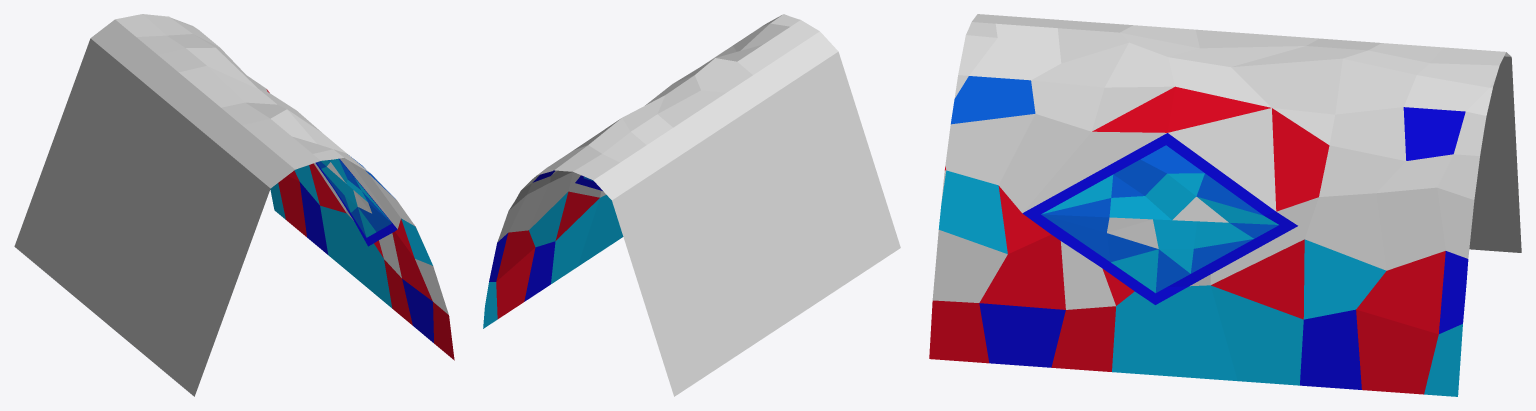
The model's file is Forma3.fbx.
3 views of the same model, side by side, from view 1: azimuth 30°, elevation 25°; view 2: azimuth 150°, elevation 25°; view 3: azimuth 270°, elevation 25° (orthographic). The views are drawn at different scales.
Parts seen in each view (by area): view 1: Sphere.003; view 2: Sphere.003; view 3: Sphere.003.
Part boxes in pixels (left/top/right/bottom): Sphere.003: left=14, top=14, right=454, bottom=396; Sphere.003: left=483, top=14, right=900, bottom=396; Sphere.003: left=929, top=14, right=1521, bottom=396.
Size of the model in its own units: 105 by 86.11 by 163.
